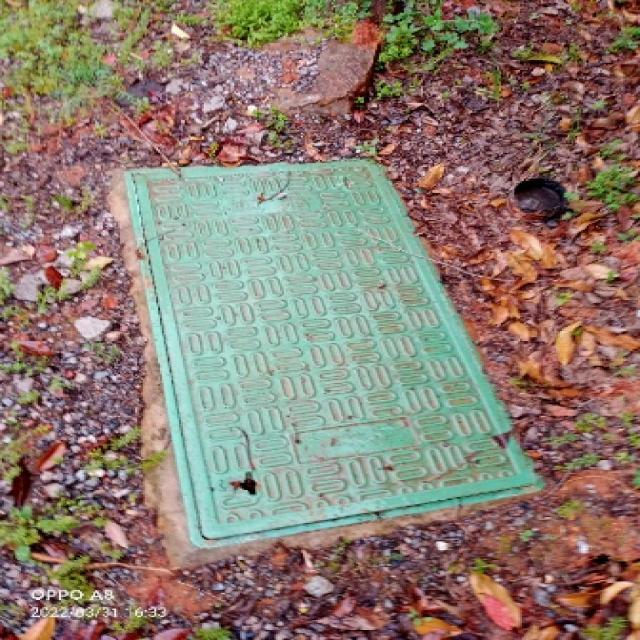Good: (104, 140, 562, 546)
